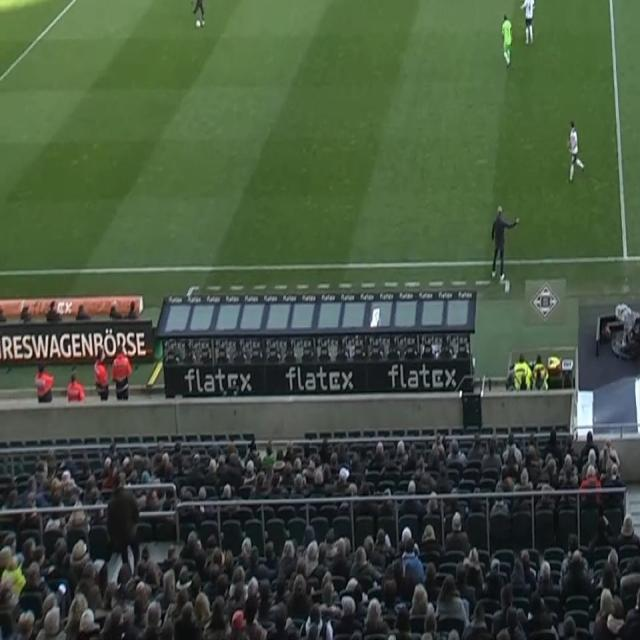ball: (195, 18, 201, 28)
